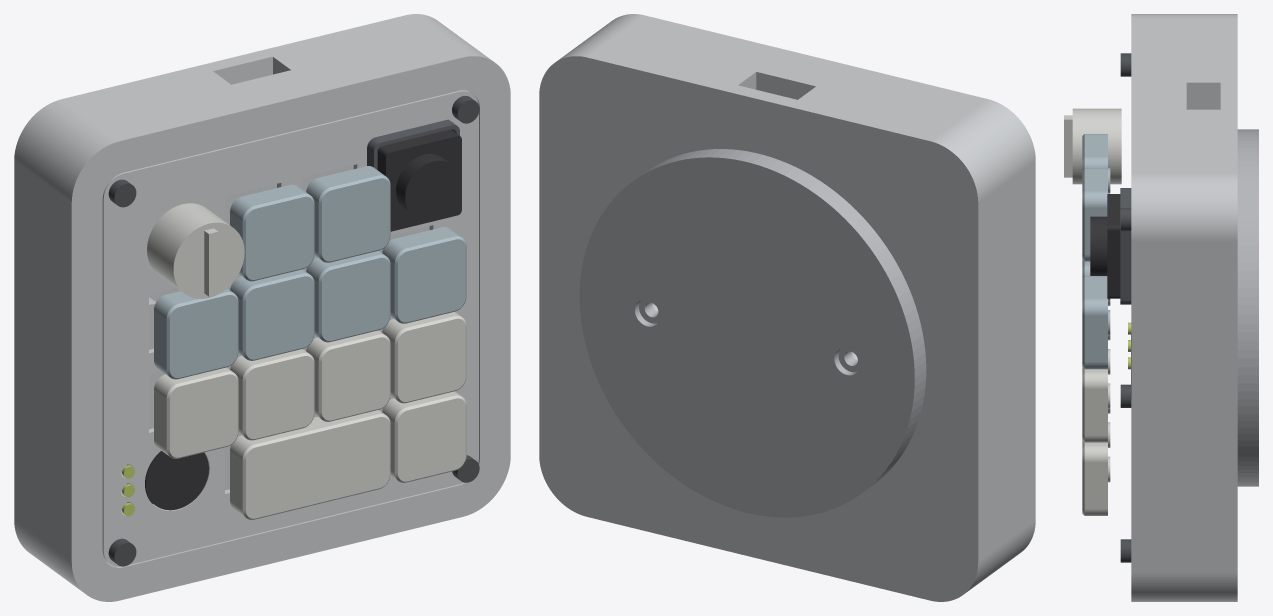
The model's file is preview.glb.
The picture shows the model from 3 angles, left to right: view 1: azimuth 30°, elevation 25°; view 2: azimuth 150°, elevation 25°; view 3: azimuth 270°, elevation 25°; orthographic projection. The views are drawn at different scales.
Parts seen in each view (by area): view 1: case_0, switch_plate_1, wide_17, encoder_knob_5, joystick_18, key_12, key_8, key_7, key_11, key_6, key_9, key_14 (+6 smaller); view 2: case_0, round_foot_2; view 3: case_0, round_foot_2, encoder_knob_5, key_11, joystick_18, key_15, key_16, key_7, joystick_cradle_3, key_6, screw_20, screw_21 (+1 smaller).
Part boxes in pixels (x1,y1,x2,y2): case_0: (14,14,510,601); switch_plate_1: (102,90,478,566); wide_17: (230,410,390,519); encoder_knob_5: (147,203,244,298); joystick_18: (377,129,461,231); key_12: (154,367,238,458); key_8: (154,288,238,379); key_7: (306,166,390,262); key_11: (382,227,466,323); key_6: (230,184,314,281); key_9: (230,269,314,360); key_14: (306,330,390,421); case_0: (539,14,1035,601); round_foot_2: (579,149,926,517); case_0: (1131,14,1237,601); round_foot_2: (1237,129,1258,486); encoder_knob_5: (1064,108,1121,184); key_11: (1082,276,1110,369); joystick_18: (1090,194,1120,298); key_15: (1082,367,1110,442); key_16: (1082,441,1110,515); key_7: (1082,168,1107,261); joystick_cradle_3: (1120,188,1131,304); key_6: (1082,134,1110,193); screw_20: (1120,53,1131,76); screw_21: (1120,539,1131,562).
Bounding box in the file's own units: 110 × 110 × 45.8.
